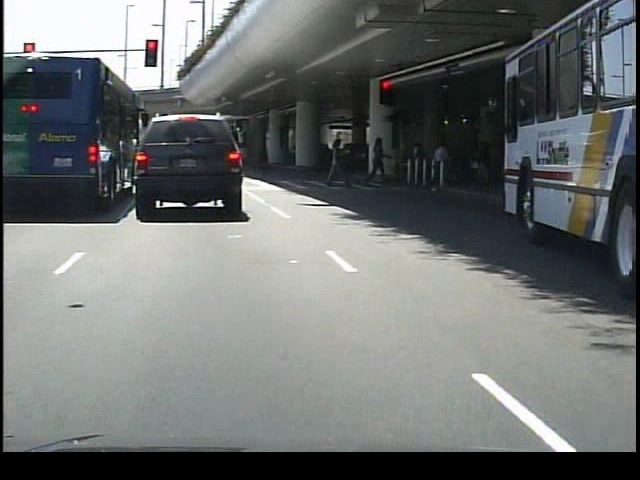person: (366, 132, 392, 187), (325, 132, 350, 188), (429, 137, 452, 193)
